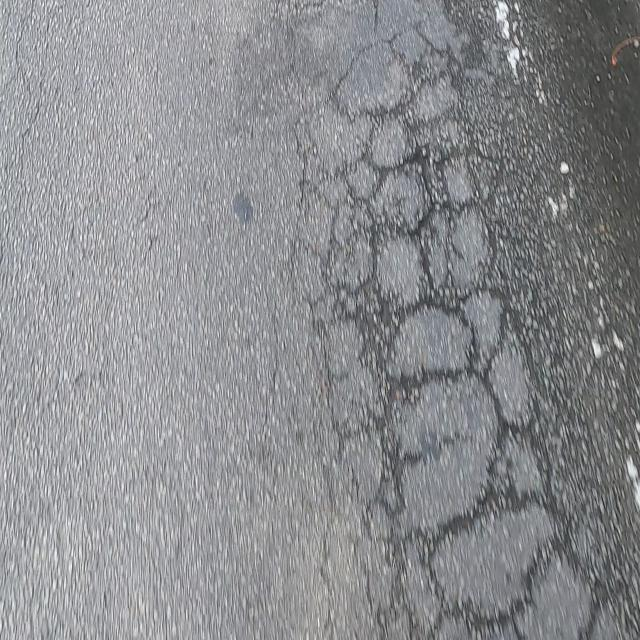Retak-Buaya: (295, 18, 633, 640)
